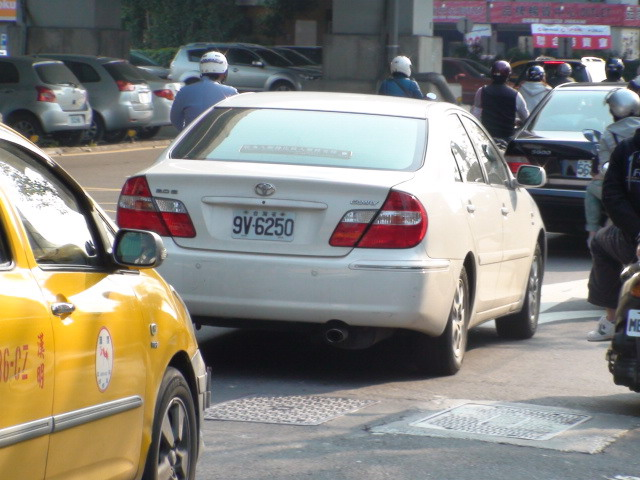plate: (230, 205, 299, 244)
